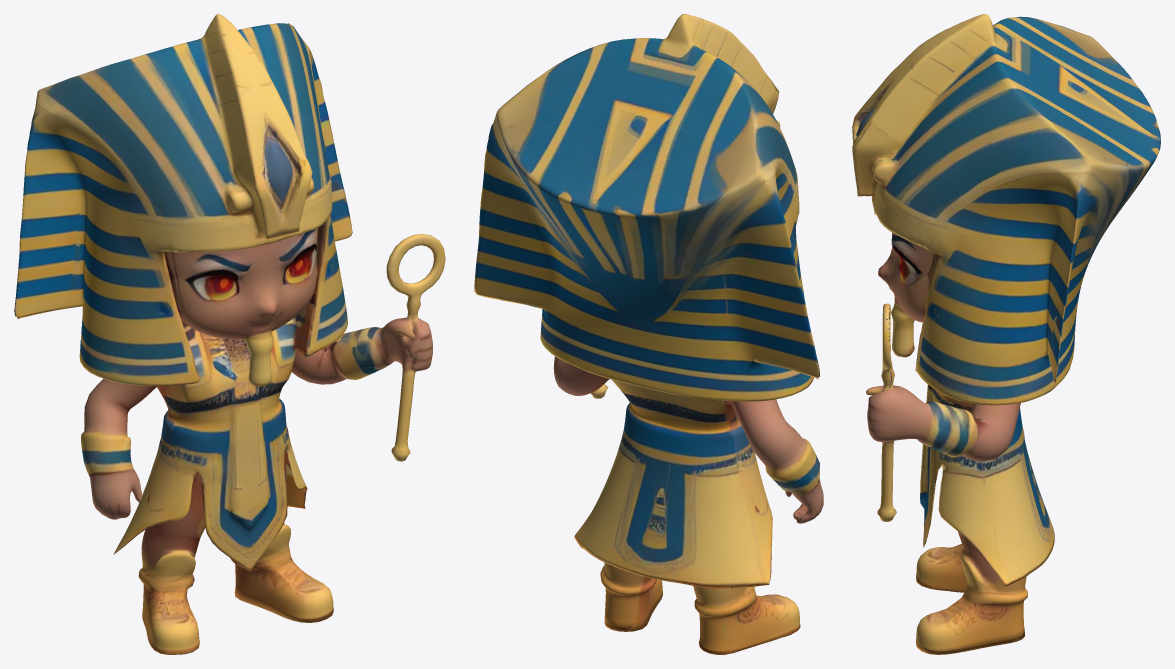
Rendered from desert_pharaoh.glb.
3 renders of one model, left to right at view 1: azimuth 30°, elevation 25°; view 2: azimuth 150°, elevation 25°; view 3: azimuth 270°, elevation 25°, orthographic. The views are drawn at different scales.
Visible parts, largest first — view 1: model; view 2: model; view 3: model.
Boxes of the visible parts, x1,y1,x2,y2 form: model: (14, 14, 445, 654); model: (474, 14, 823, 654); model: (852, 14, 1160, 654).
Size of the model in its own units: 1.15 by 1.9 by 0.8888.
Materials: 1 (1 with a texture image).
